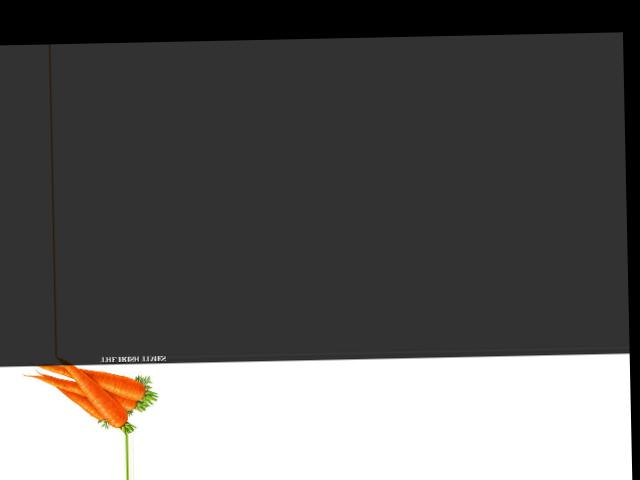carrot: (68, 353, 157, 400)
